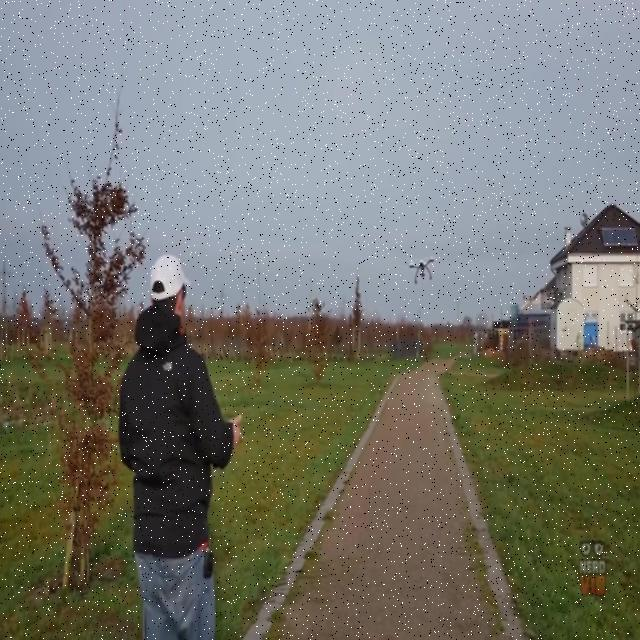UAV: (406, 256, 434, 284)
